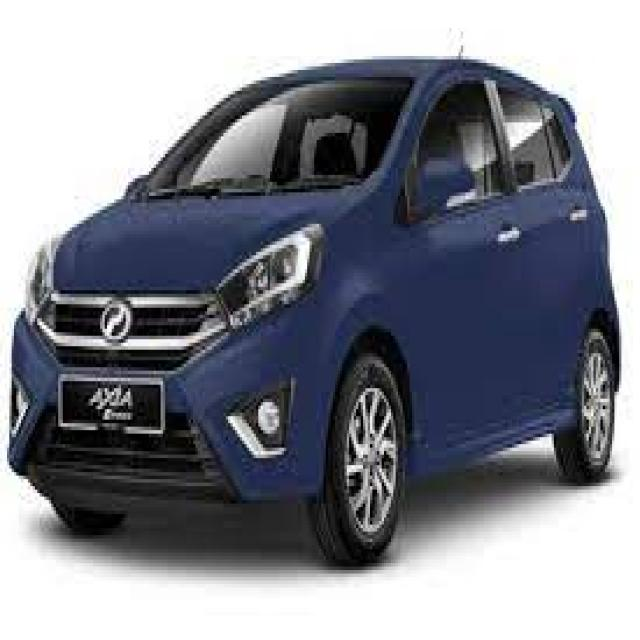PeroduaAxia: (5, 49, 621, 567)
